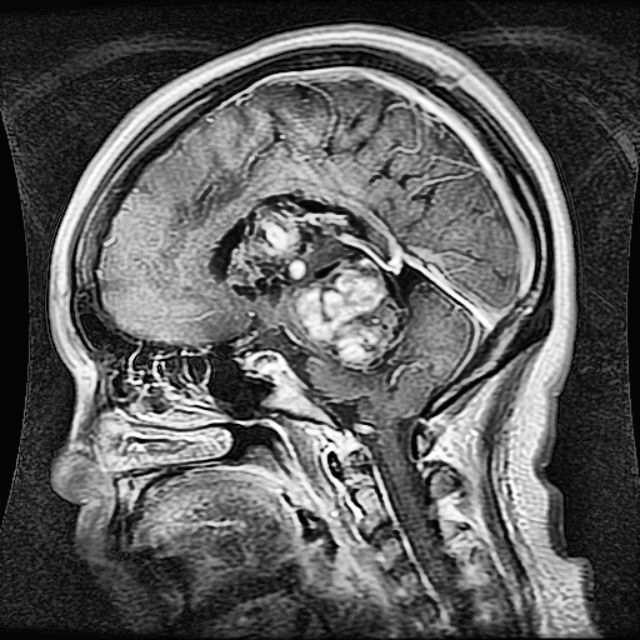Meningioma: (232, 194, 427, 368)
